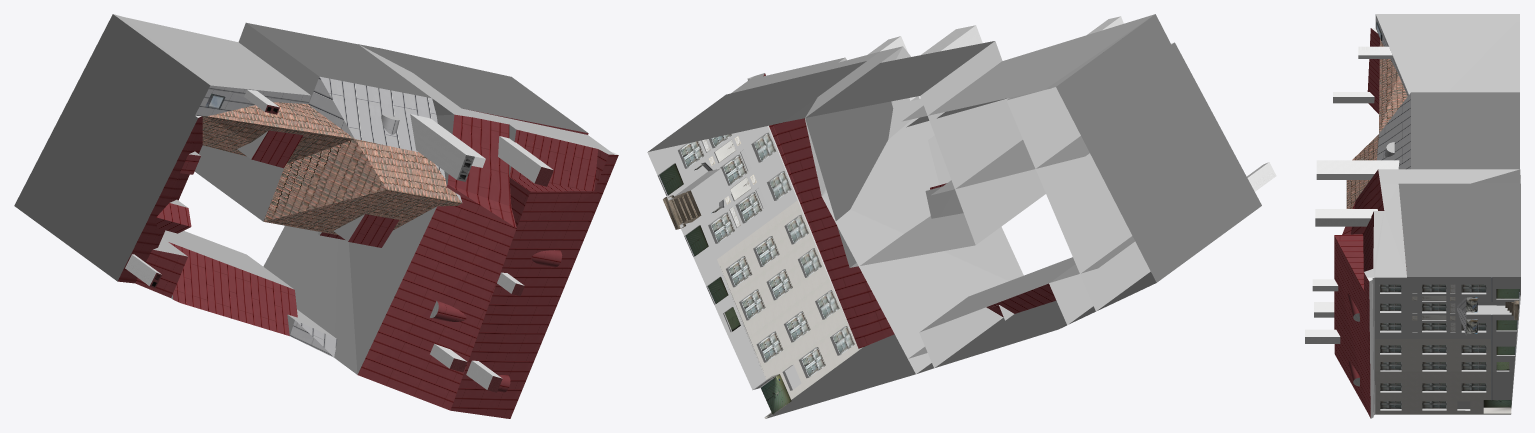
Rendered from Rataskaevu_14.obj.
3 views of the same model, side by side, from view 1: azimuth 30°, elevation 25°; view 2: azimuth 150°, elevation 25°; view 3: azimuth 270°, elevation 25° (orthographic). The views are drawn at different scales.
Visible parts, largest first — view 1: Rataskaevu_14; view 2: Rataskaevu_14; view 3: Rataskaevu_14.
Boxes of the visible parts, bbox=[...] form: Rataskaevu_14: bbox=[14, 14, 618, 418]; Rataskaevu_14: bbox=[647, 14, 1276, 418]; Rataskaevu_14: bbox=[1305, 14, 1520, 418].
Bounding box in the file's own units: 38.25 × 29.2 × 19.17.
